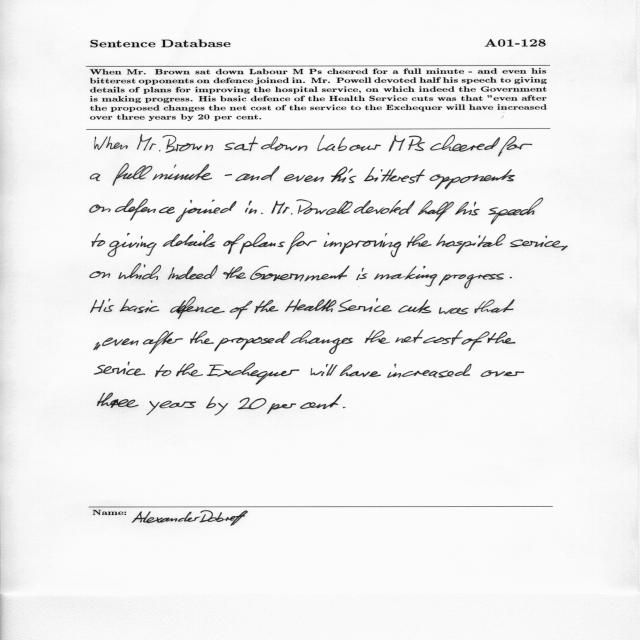word: (176, 363, 300, 385), (324, 233, 401, 257), (430, 169, 515, 189), (250, 266, 349, 282), (214, 331, 290, 351), (290, 330, 353, 354), (488, 198, 543, 224), (436, 234, 506, 254), (115, 198, 175, 221), (176, 200, 236, 223), (374, 266, 437, 287), (388, 363, 472, 378), (170, 297, 225, 319), (107, 233, 157, 257), (430, 135, 500, 152), (439, 273, 504, 289), (317, 135, 381, 151), (291, 199, 353, 215), (364, 167, 425, 183), (152, 164, 212, 180), (240, 233, 285, 254), (113, 163, 153, 186), (143, 331, 183, 354), (162, 135, 213, 153), (354, 200, 415, 215), (163, 231, 216, 247), (418, 200, 454, 222), (168, 265, 218, 280), (338, 298, 391, 312), (498, 136, 532, 157), (147, 401, 197, 415), (261, 136, 307, 151), (287, 232, 317, 255), (300, 394, 346, 409), (118, 264, 161, 280), (235, 166, 280, 181), (285, 299, 336, 312), (510, 240, 568, 251), (98, 393, 139, 408), (389, 135, 425, 152), (423, 330, 463, 345), (475, 299, 515, 313), (462, 331, 490, 351), (120, 299, 159, 313), (339, 364, 381, 377), (224, 137, 258, 151), (94, 362, 130, 375), (95, 136, 128, 150), (223, 234, 245, 254), (398, 300, 431, 313), (230, 301, 252, 320), (206, 397, 228, 416), (331, 167, 357, 183), (137, 135, 160, 152), (487, 331, 516, 344), (407, 233, 432, 248), (395, 330, 423, 343), (365, 330, 390, 344), (91, 298, 114, 313), (238, 398, 266, 410), (455, 202, 480, 215), (311, 364, 338, 376), (284, 174, 324, 182), (267, 403, 296, 414), (255, 300, 279, 313), (190, 331, 214, 344), (481, 370, 524, 377), (223, 267, 246, 280), (102, 338, 139, 346), (271, 201, 290, 214), (439, 308, 469, 315), (155, 365, 171, 377), (92, 233, 105, 247), (90, 205, 111, 213), (245, 201, 257, 214), (356, 268, 368, 280), (90, 271, 110, 278), (126, 369, 145, 376), (91, 174, 101, 182), (94, 342, 101, 350), (225, 174, 232, 176), (546, 236, 548, 239), (261, 213, 264, 214), (510, 277, 512, 278)
